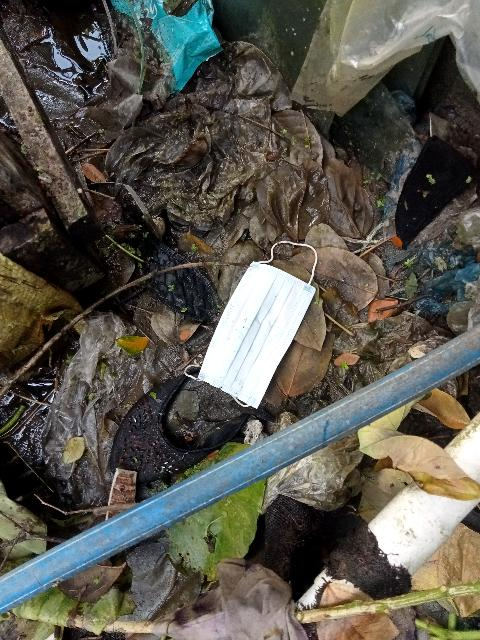mask: (195, 222, 327, 429)
